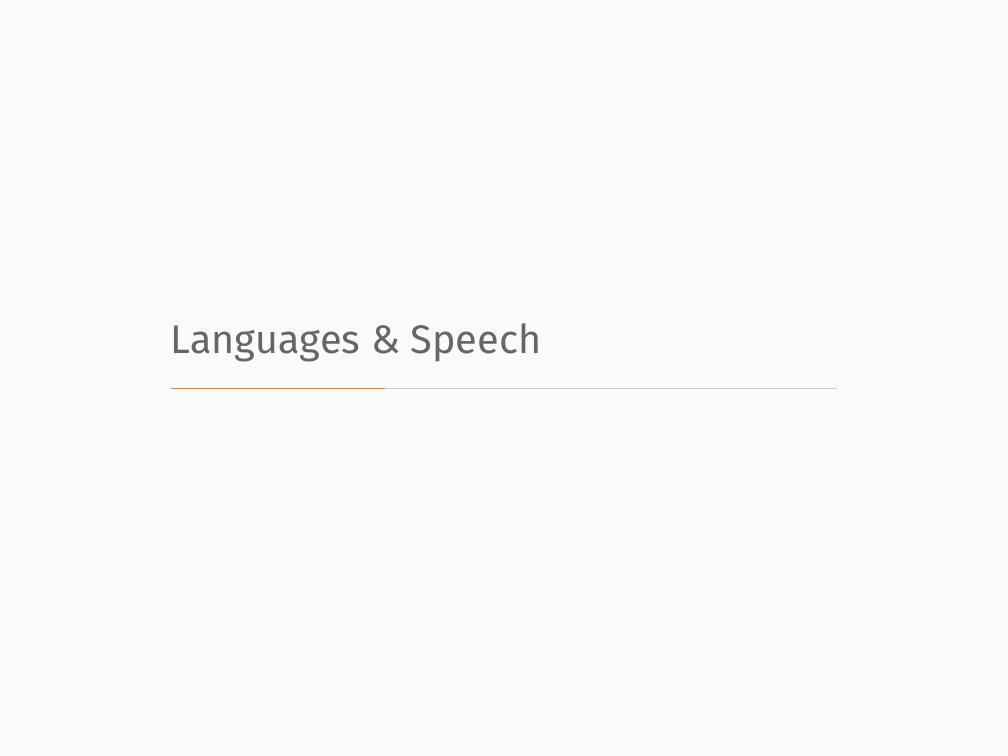Title: (166, 318, 547, 371)
